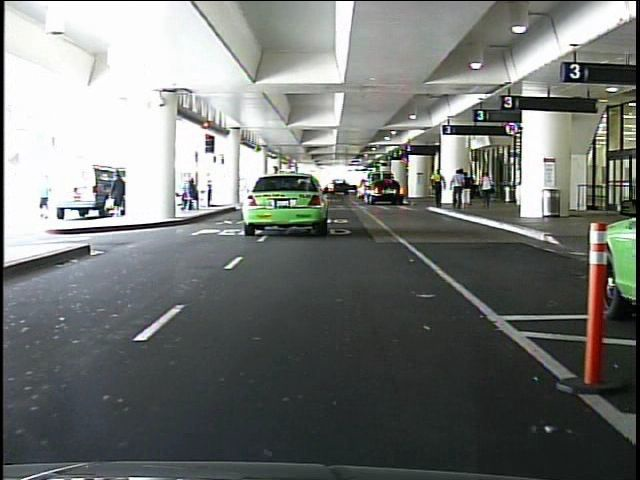person: (35, 167, 59, 228), (112, 168, 135, 217), (476, 168, 497, 218), (427, 166, 448, 213), (449, 164, 468, 213), (203, 170, 217, 213), (461, 171, 475, 213)
